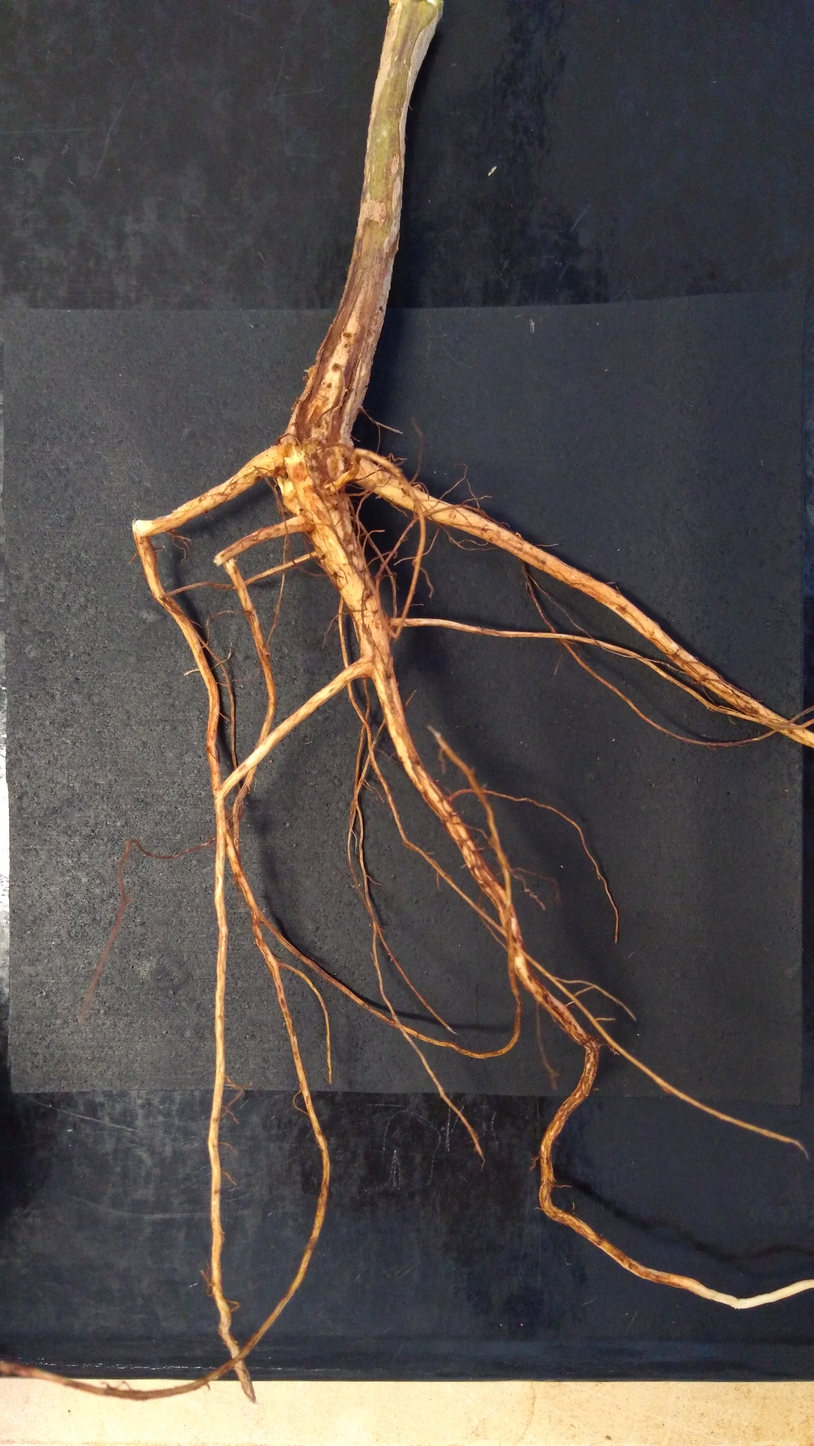nodule: (412, 484, 421, 490)
